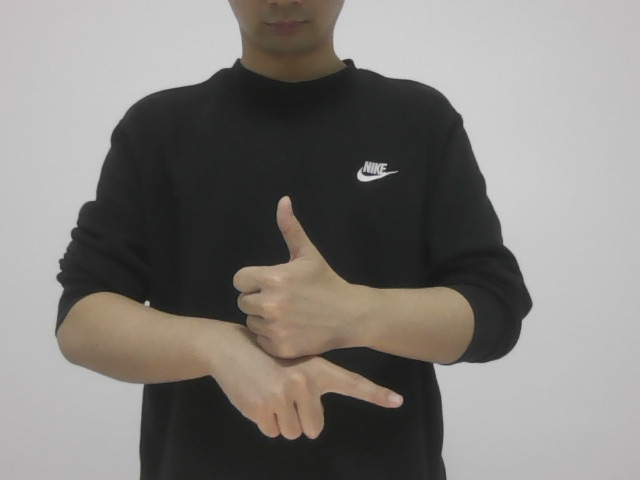birthday: (215, 198, 408, 448)
